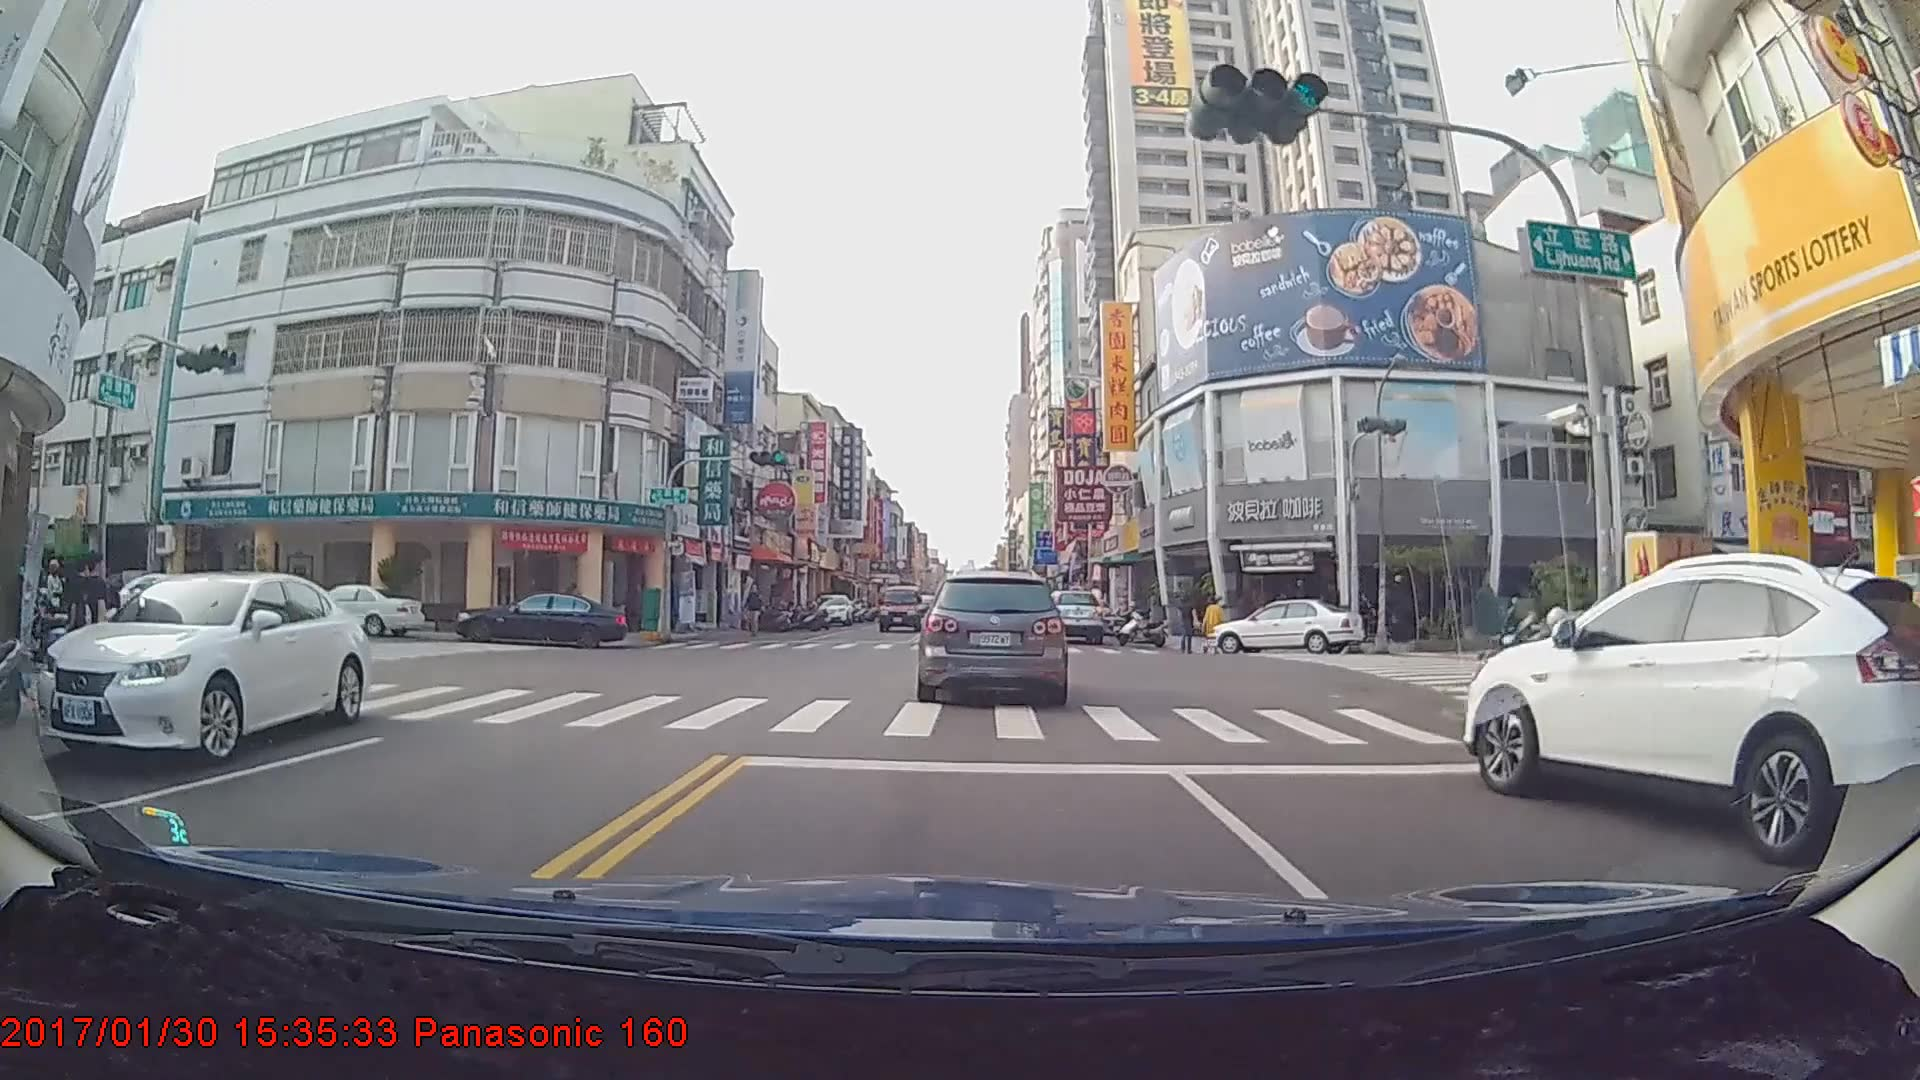pedestrian: (75, 550, 116, 704), (1177, 592, 1197, 658), (1204, 594, 1226, 649), (745, 584, 765, 638)
vehicle: (1461, 549, 1920, 866), (28, 569, 366, 768), (918, 567, 1067, 707), (451, 583, 626, 640), (1208, 595, 1362, 656), (279, 579, 425, 637), (1036, 584, 1103, 642), (876, 581, 922, 630), (808, 591, 852, 627)
